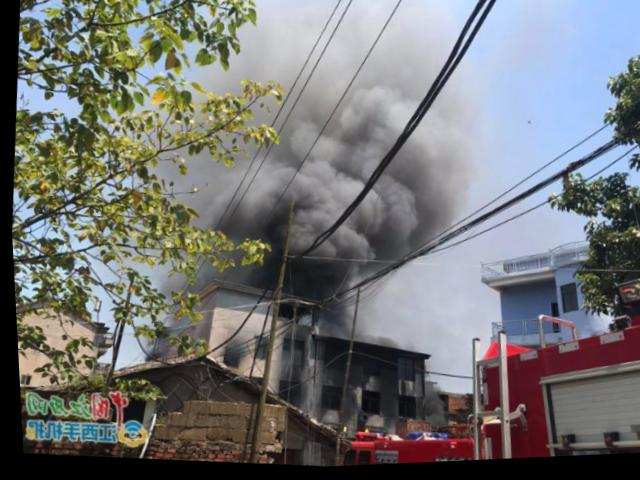smoke: (288, 183, 409, 293), (232, 0, 361, 96), (347, 0, 457, 111), (263, 85, 369, 193), (367, 114, 472, 201), (195, 161, 275, 234)
